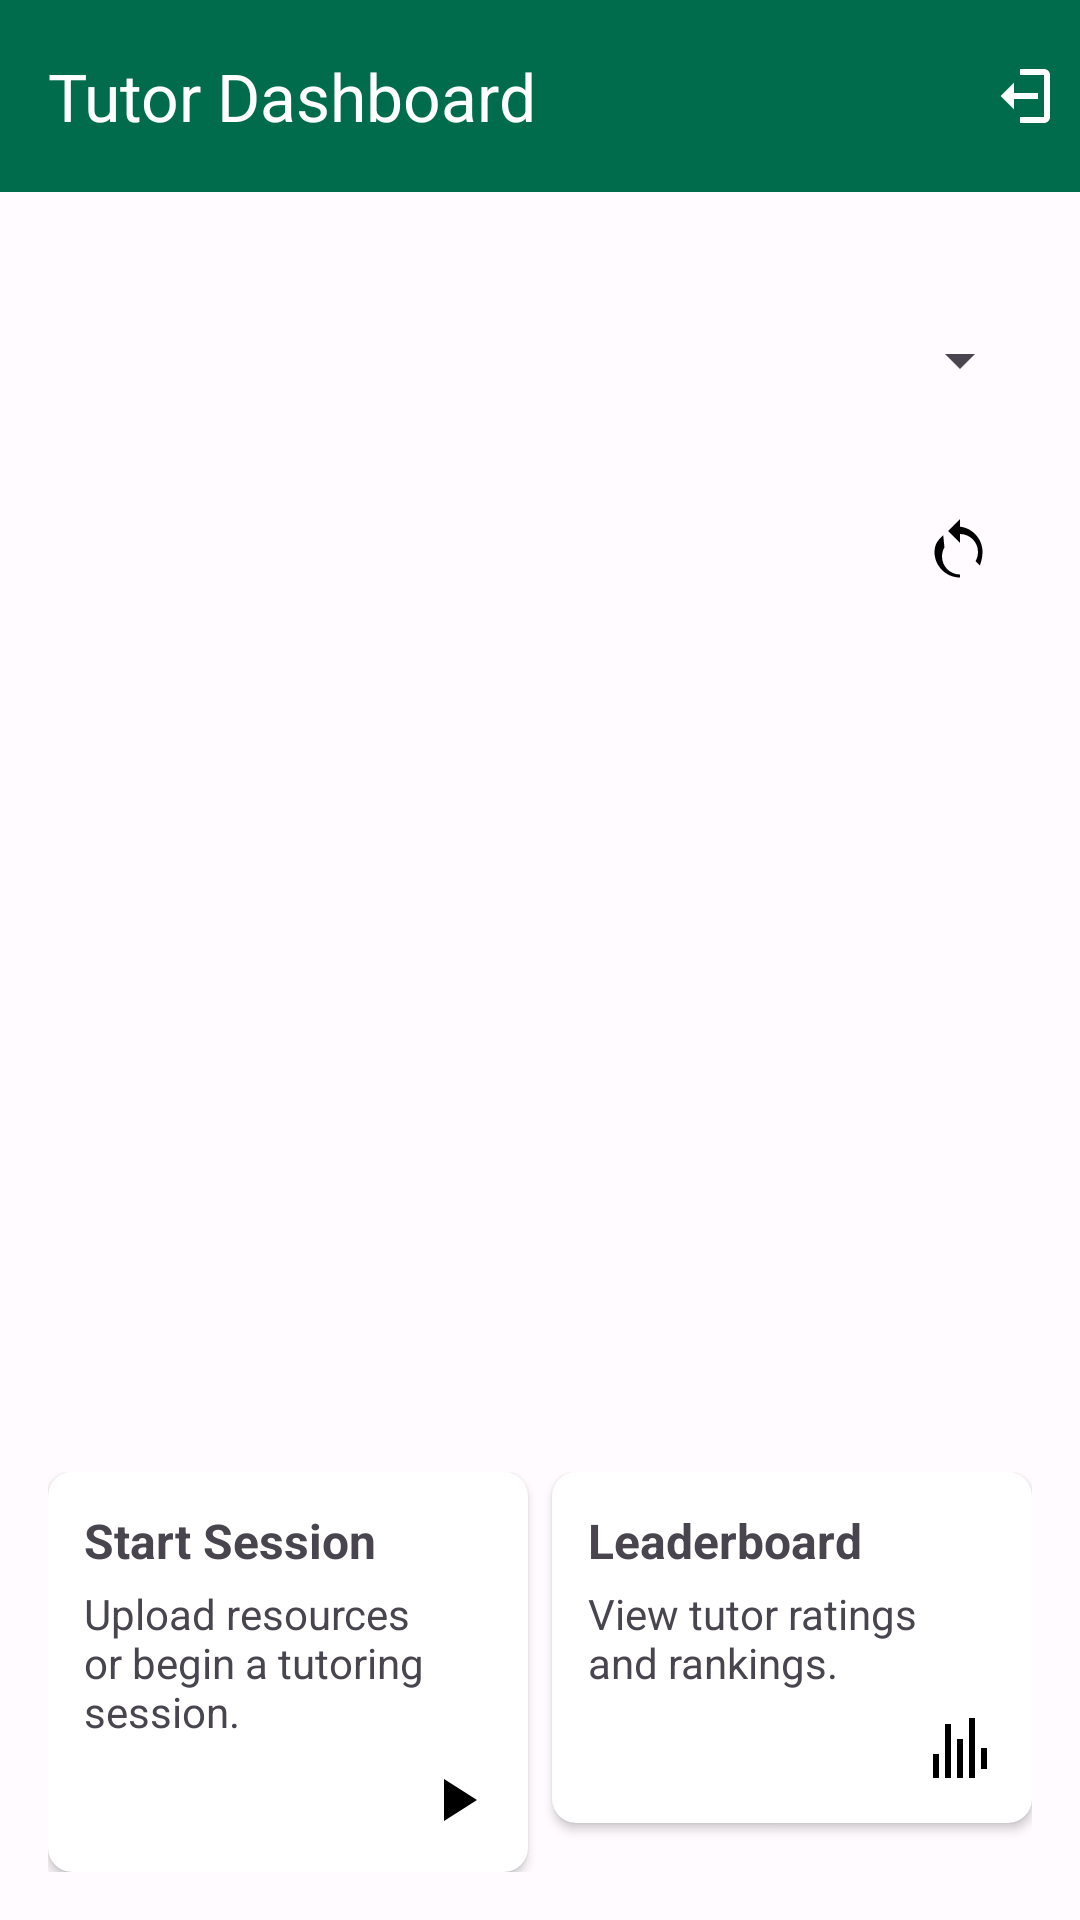

Icon bounding boxes for this 1080 × 1920 phone screenshot, format {"left": x1, "top": y1, "right": x2, "bottom": y2}:
Refresh: {"left": 934, "top": 519, "right": 983, "bottom": 578}
